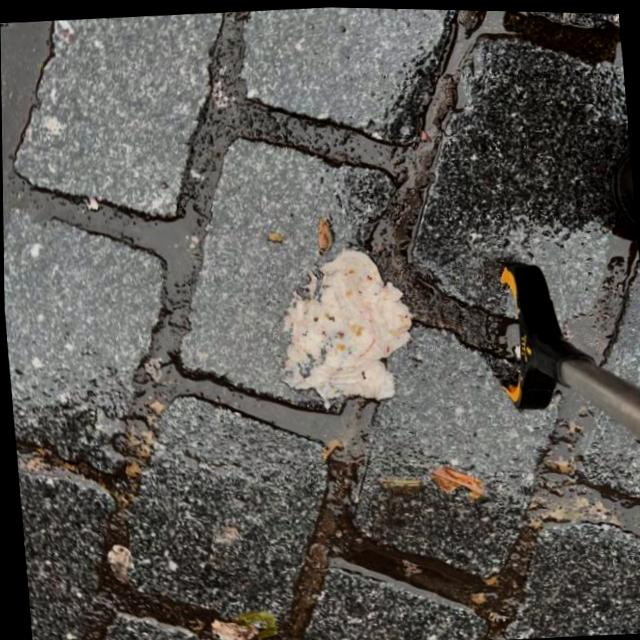Paper: (267, 239, 419, 413)
